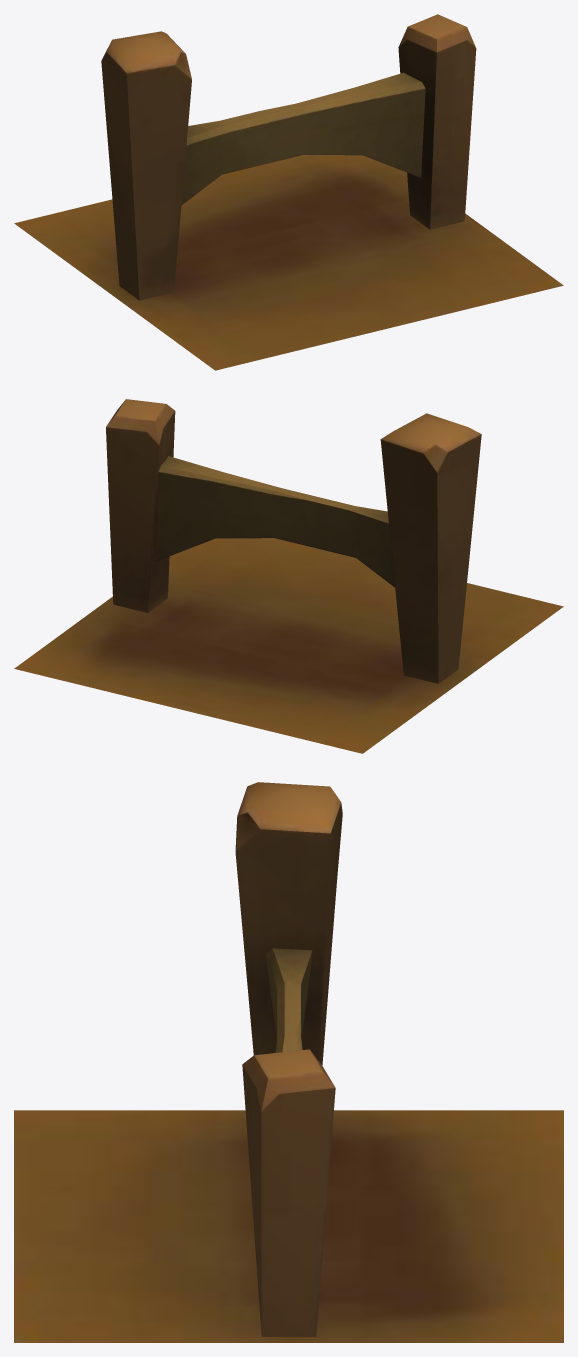
File: OBJ_Barrier_02.obj
3 views of the same model, one above another, from view 1: azimuth 30°, elevation 25°; view 2: azimuth 150°, elevation 25°; view 3: azimuth 270°, elevation 25° (orthographic). The views are drawn at different scales.
Parts seen in each view (by area): view 1: OBJ_Barrier_02; view 2: OBJ_Barrier_02; view 3: OBJ_Barrier_02.
Boxes of the visible parts, box(x1,y1,x2,y2) form: OBJ_Barrier_02: box(14, 14, 563, 370); OBJ_Barrier_02: box(14, 399, 563, 753); OBJ_Barrier_02: box(14, 782, 563, 1342).
Bounding box in the file's own units: 1.22 × 0.8217 × 1.2.
Materials: 1 (1 with a texture image).
